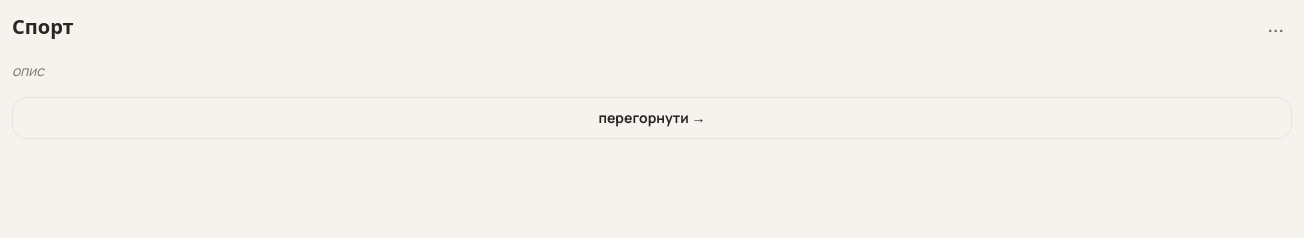
CH-06 editing: меню "..." -> "Редагувати" показує форму з поточними Назвою і Описом
The image size is (1304, 238).
What coordinates should you click on to do the following:
click the button named "Меню картки"
I would click on:
 (1276, 25)
Its box is [1260,12,1292,38].
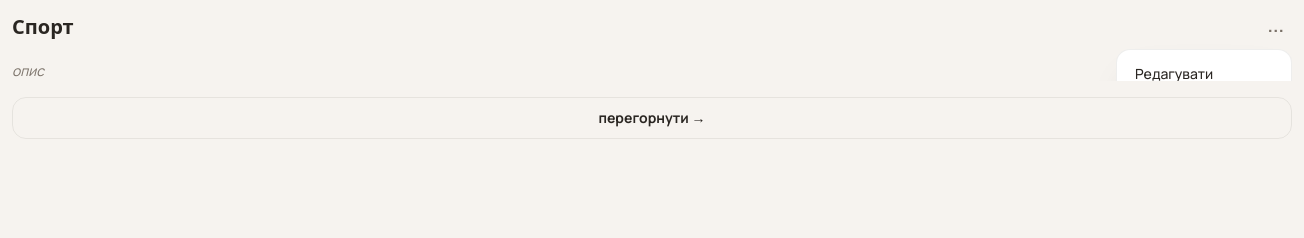
What coordinates should you click on to do the following:
click the menu item "Редагувати"
I would click on:
 (1204, 74)
Its box is [1123,56,1285,92].
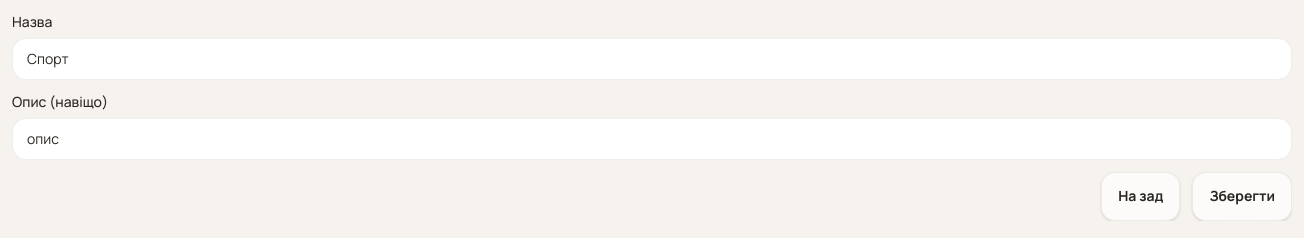
Expected: the field labelled "Назва" holds "Спорт", [12,38,1292,80]
Expected: the field labelled "Опис (навіщо)" holds "опис", [12,118,1292,160]
Expected: the button "перегорнути" is gone
